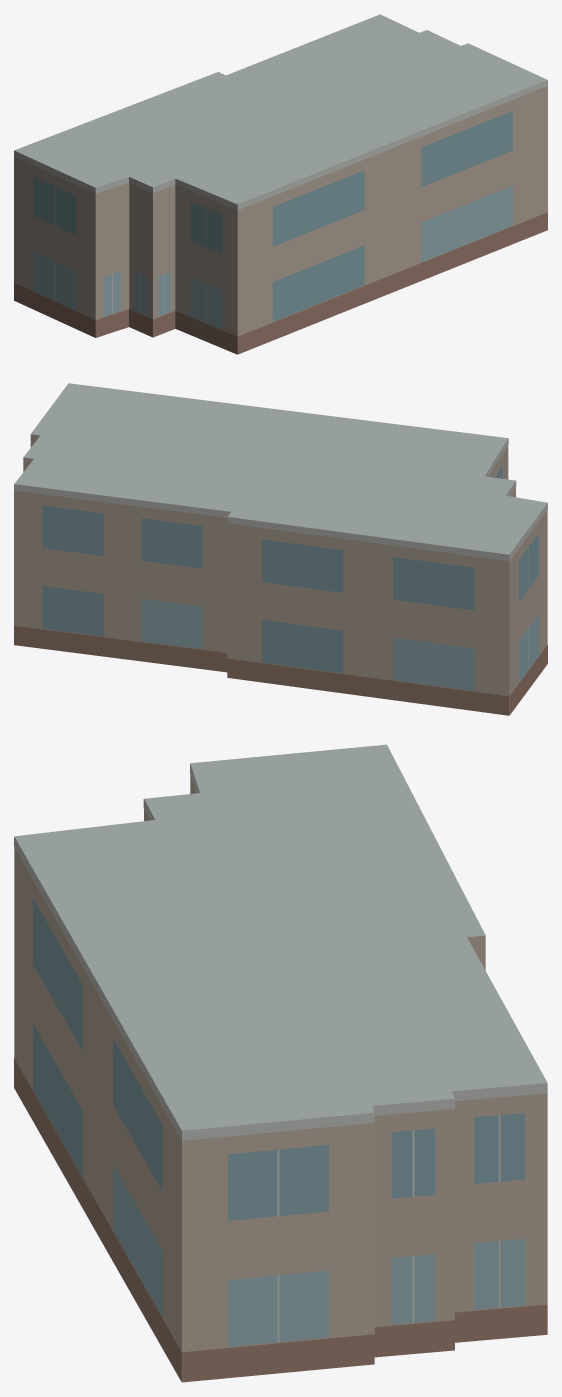
The model's file is survey-upis-32930122.glb.
3 renders of one model, top to bottom at view 1: azimuth 30°, elevation 25°; view 2: azimuth 150°, elevation 25°; view 3: azimuth 270°, elevation 25°, orthographic. The views are drawn at different scales.
Parts seen in each view (by area): view 1: survey-upis-32930122.tmp; view 2: survey-upis-32930122.tmp; view 3: survey-upis-32930122.tmp.
Boxes of the visible parts, <box> form: survey-upis-32930122.tmp: <box>14,14,547,354</box>; survey-upis-32930122.tmp: <box>14,383,547,715</box>; survey-upis-32930122.tmp: <box>14,744,547,1382</box>.
Size of the model in its own units: 20.1 by 6.1 by 11.74.
